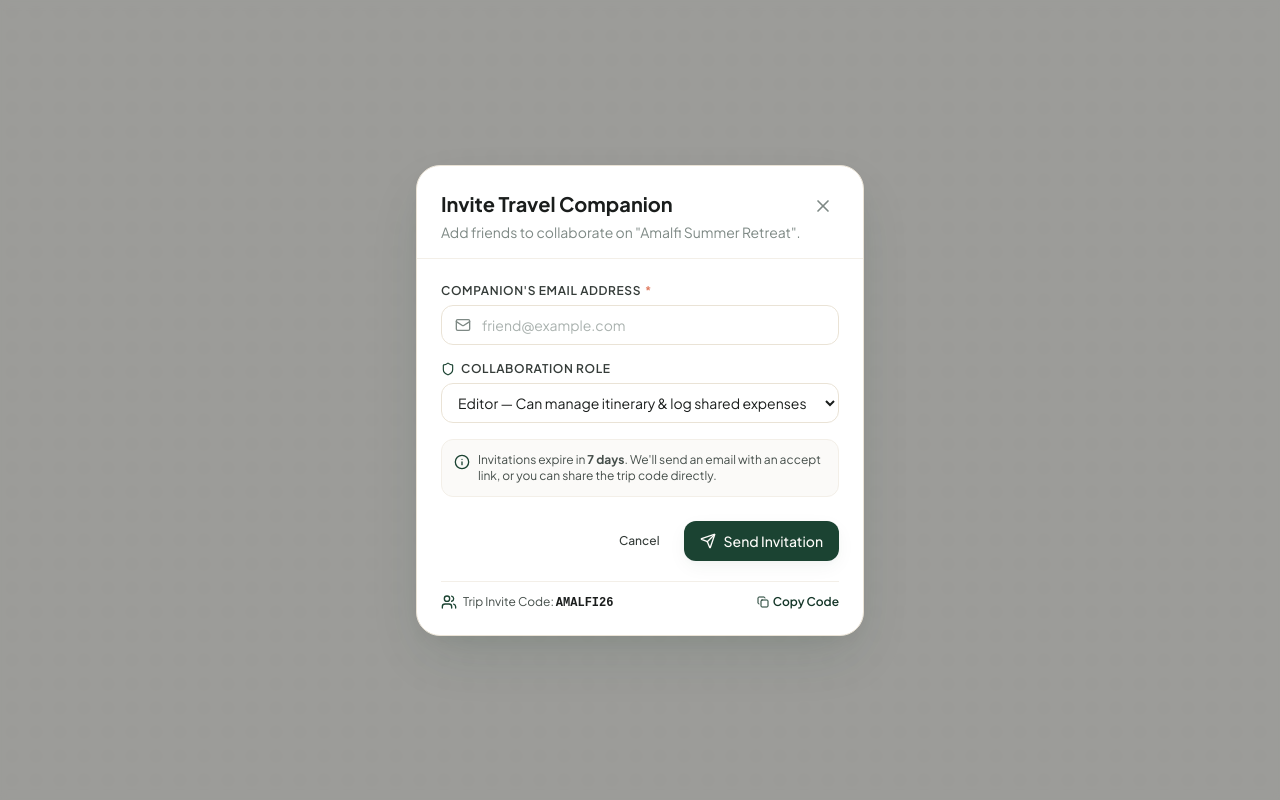
Test case: Frontend Trip Workflow & Modals Tests › InviteMemberModal Form Validation & Collaboration Workflow › flags invalid email addresses with validation error message
Type "not-an-email" into the field labelled "Companion's Email Address*" at (640,324), box [441,304,839,344]
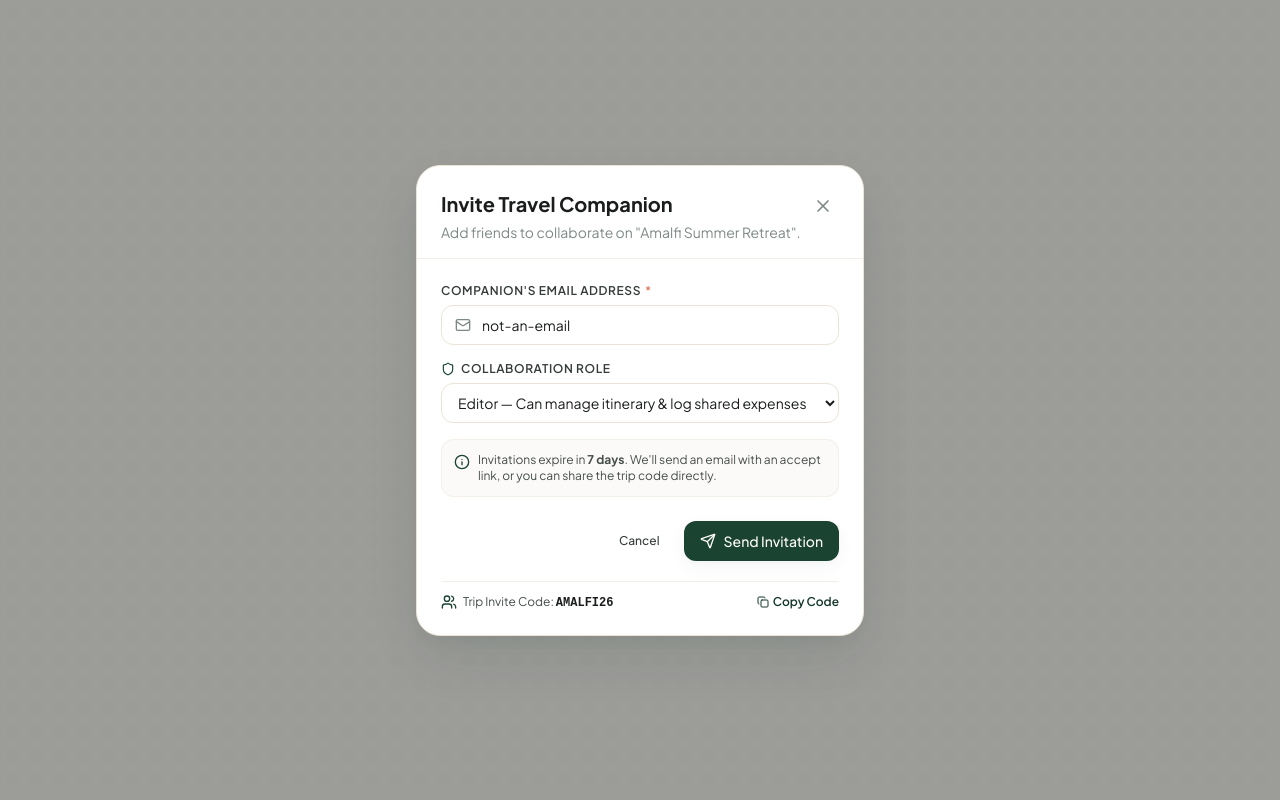
Submit the form, box [441,282,839,560]
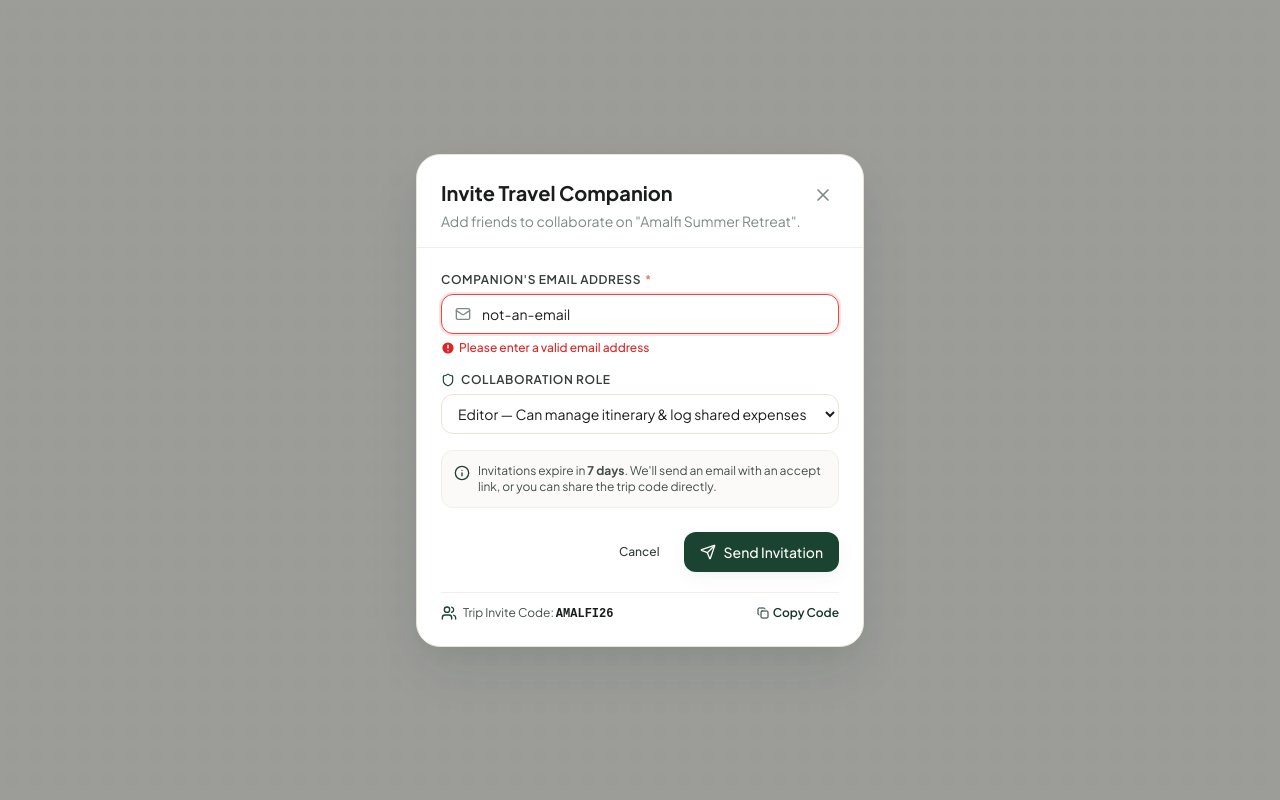
Check: the text "Please enter a valid email address" is shown, box [441,340,650,354]
